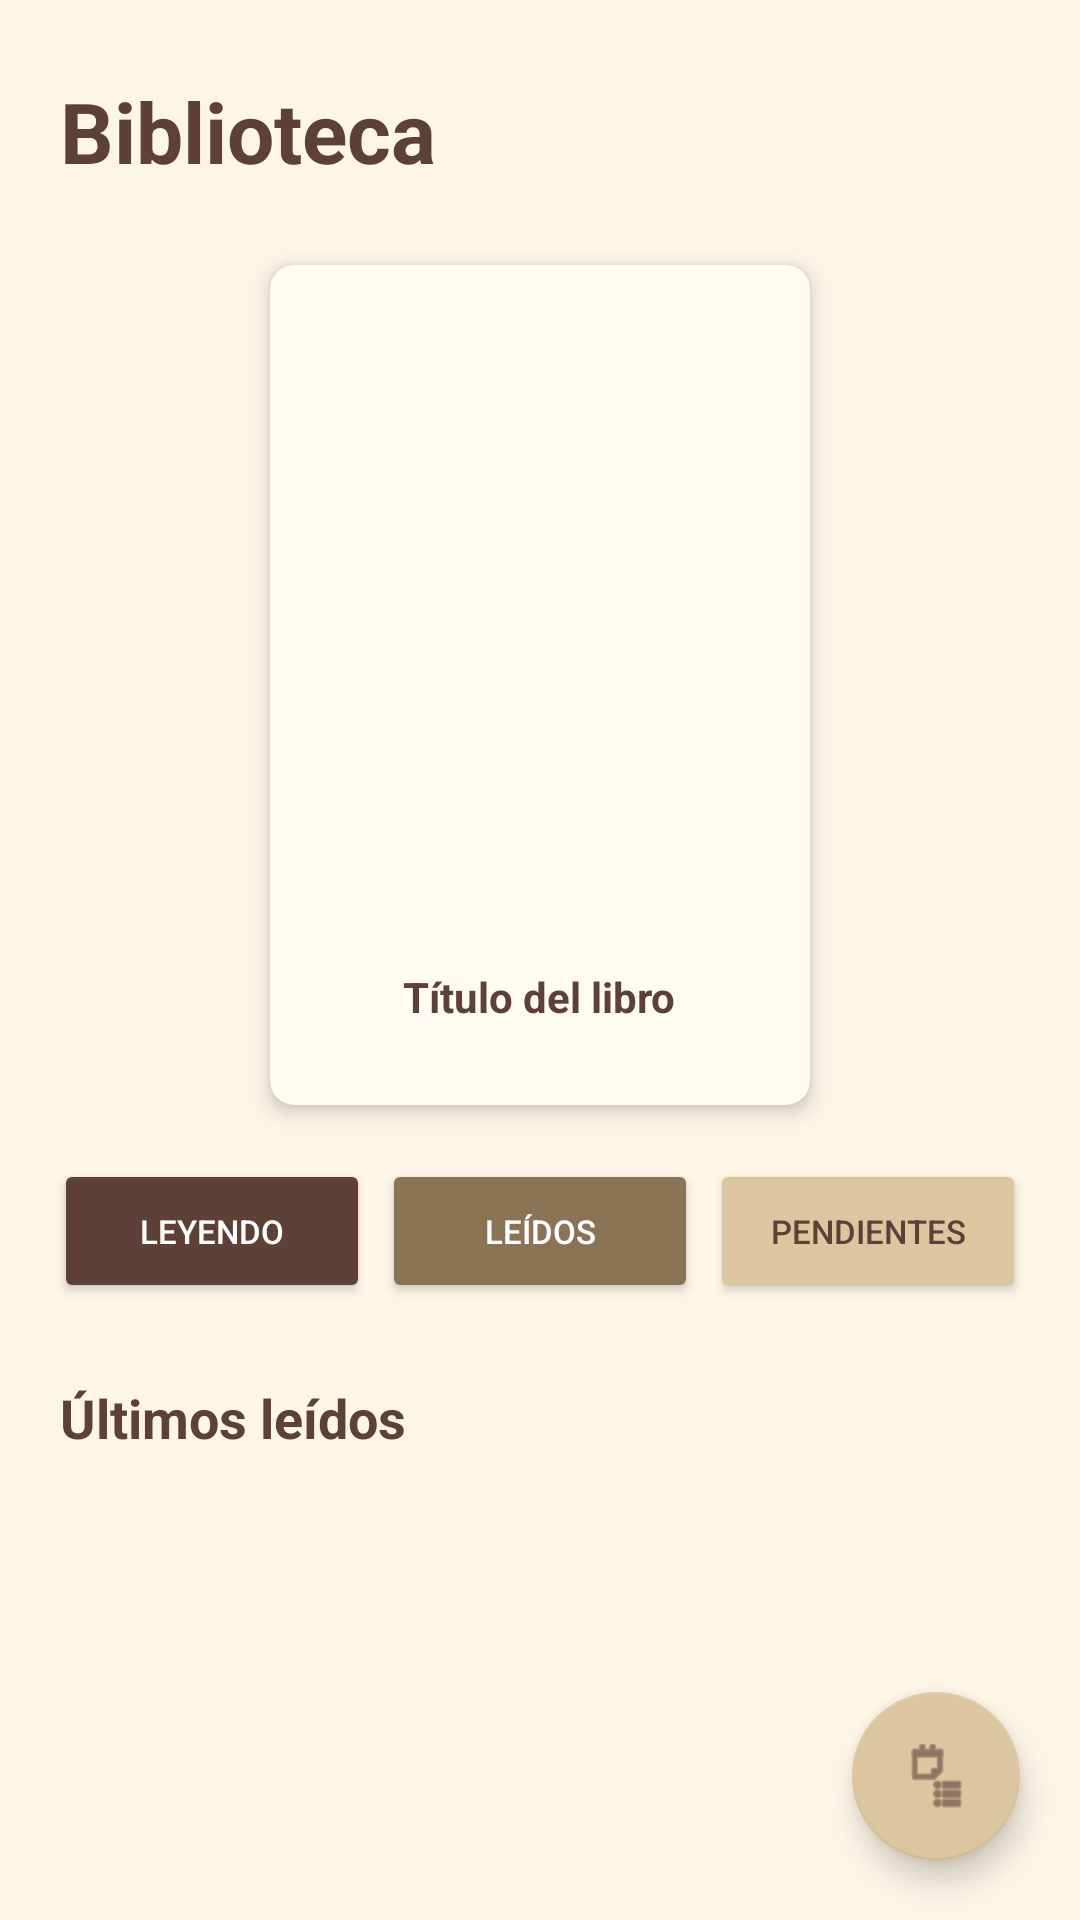

Where to tap for icons on this 1080x1920 app screen, as (x=x, y=y):
agenda: (x=936, y=1776)
